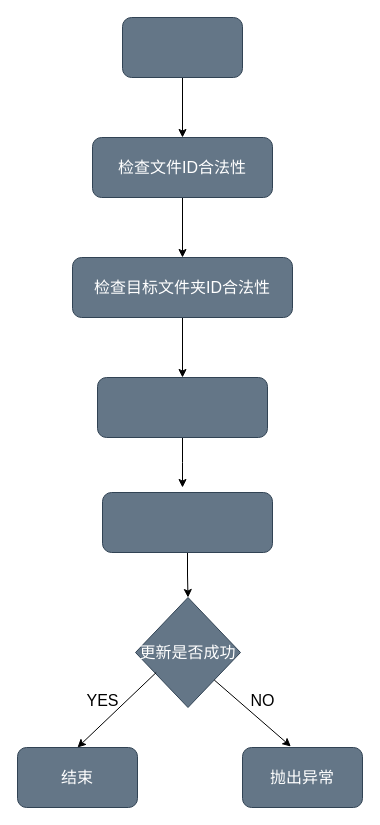
This 380x825 diagram has some shape labels left out. Each missing label, with the box of its shape:
处理重复文件名: (96, 376, 268, 438)
开始: (122, 16, 242, 78)
更新文件父级ID: (102, 492, 272, 552)
